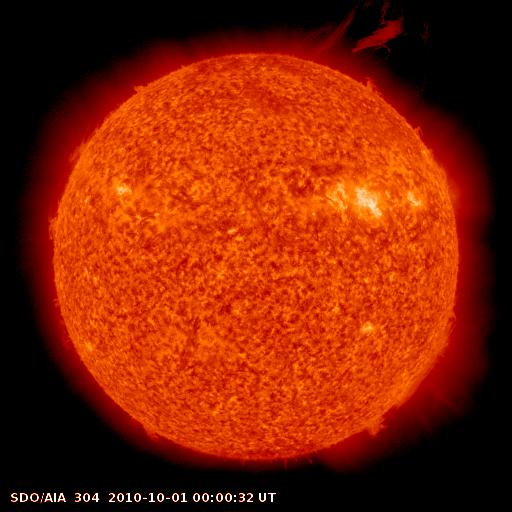prominence: (294, 1, 420, 84), (400, 313, 462, 406), (63, 112, 113, 166), (30, 201, 73, 257), (402, 115, 446, 164), (131, 405, 169, 450), (355, 406, 397, 446), (122, 71, 162, 104)
